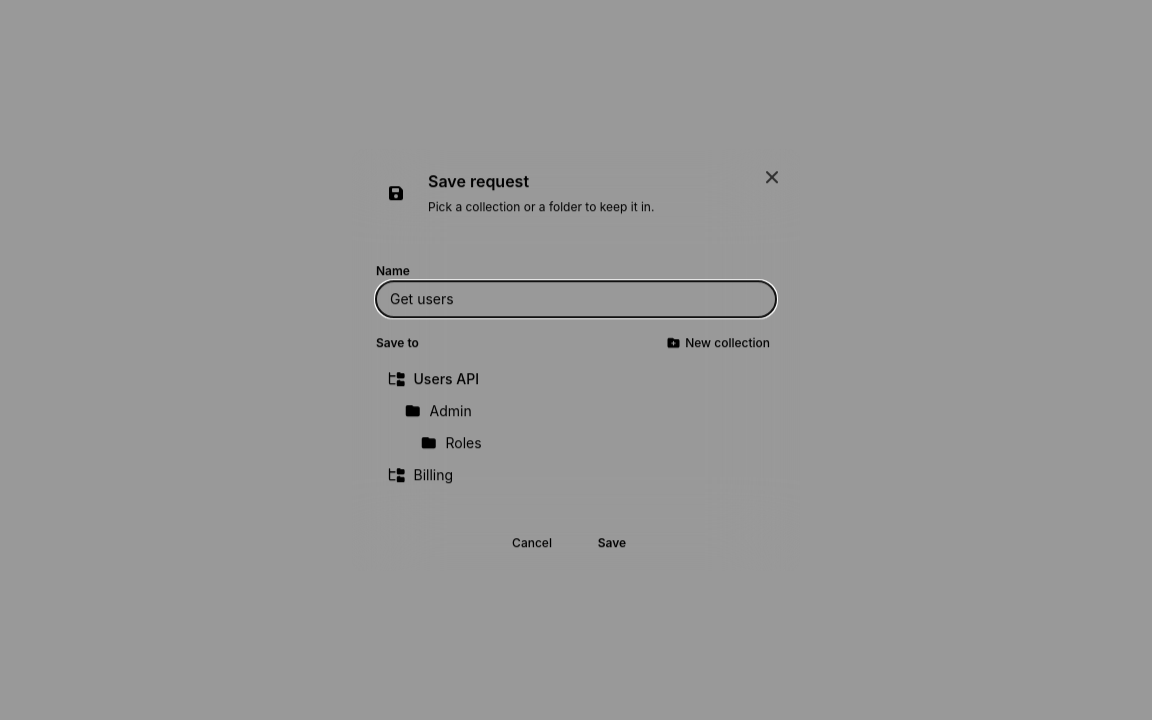
Scenario: SaveRequestDialog › shows why a save failed and stays open
Click the button "Save" at (612,543), box [572,529,652,557]
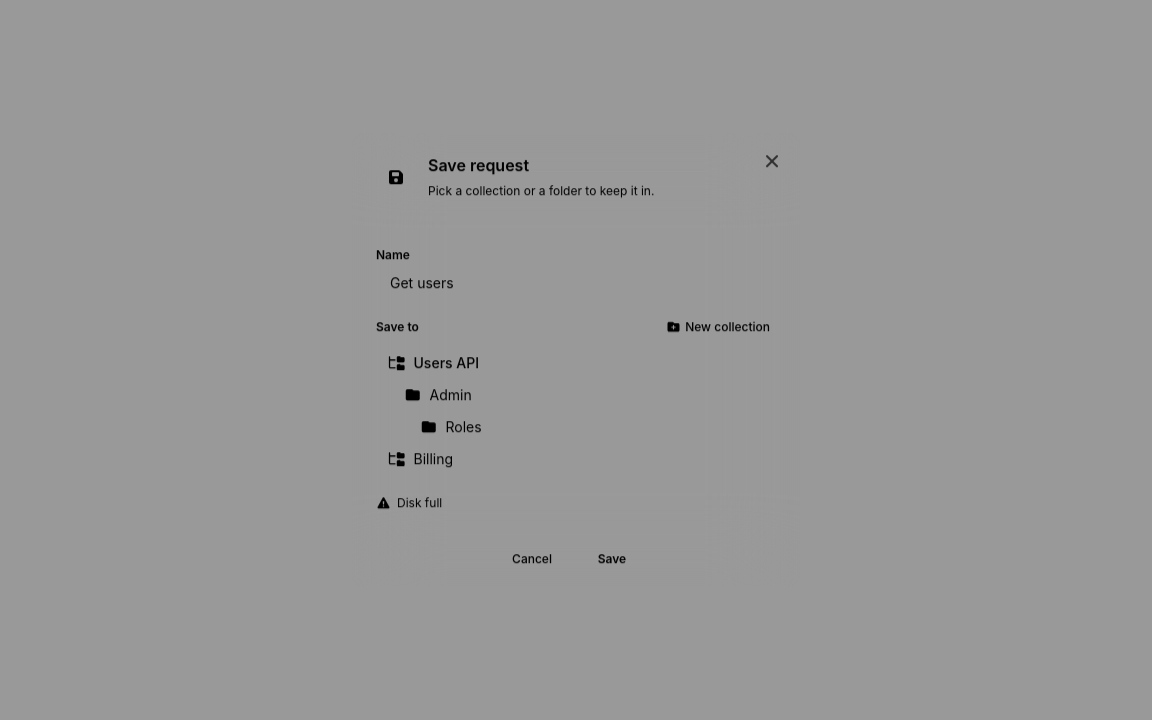
Result: the text "Disk full" is shown at [376,495,442,510]
